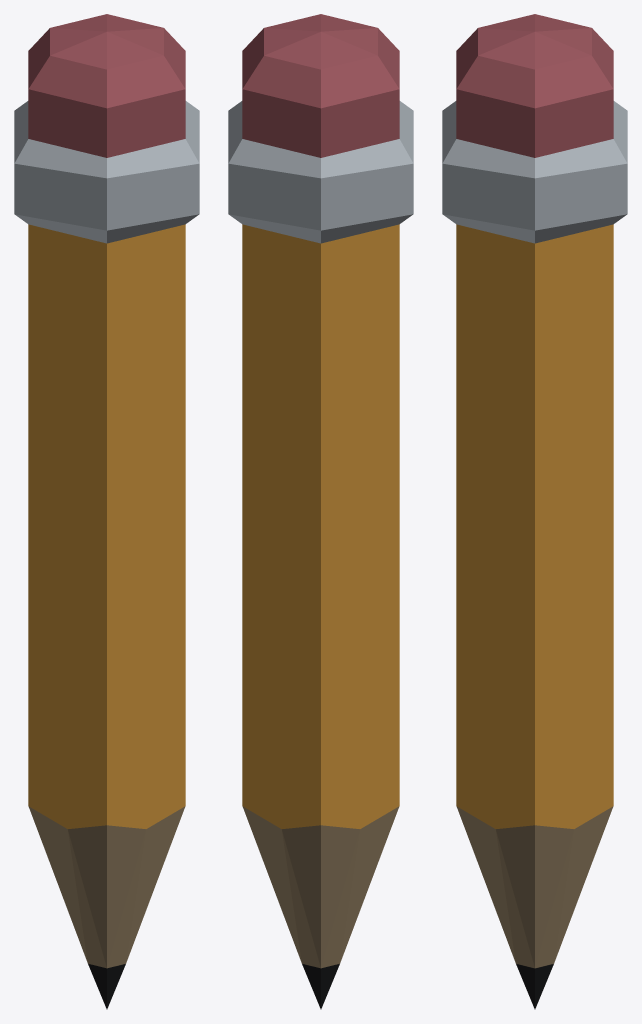
Rendered from SM_Icon_Pencil_01.fbx.
3 views of the same model, side by side, from view 1: azimuth 30°, elevation 25°; view 2: azimuth 150°, elevation 25°; view 3: azimuth 270°, elevation 25° (orthographic).
Visible parts, largest first — view 1: SM_Icon_Pencil_01; view 2: SM_Icon_Pencil_01; view 3: SM_Icon_Pencil_01.
Part boxes in pixels (box(x1,y1,x2,y2)): SM_Icon_Pencil_01: box(14, 14, 199, 1009); SM_Icon_Pencil_01: box(228, 14, 413, 1009); SM_Icon_Pencil_01: box(442, 14, 627, 1009).
Bounding box in the file's own units: 12.8 × 64.63 × 11.08.
